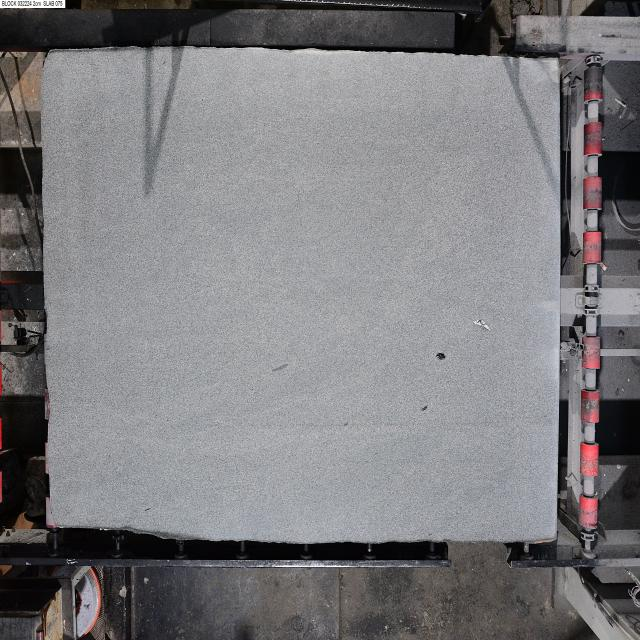chapa: (42, 47, 560, 544)
